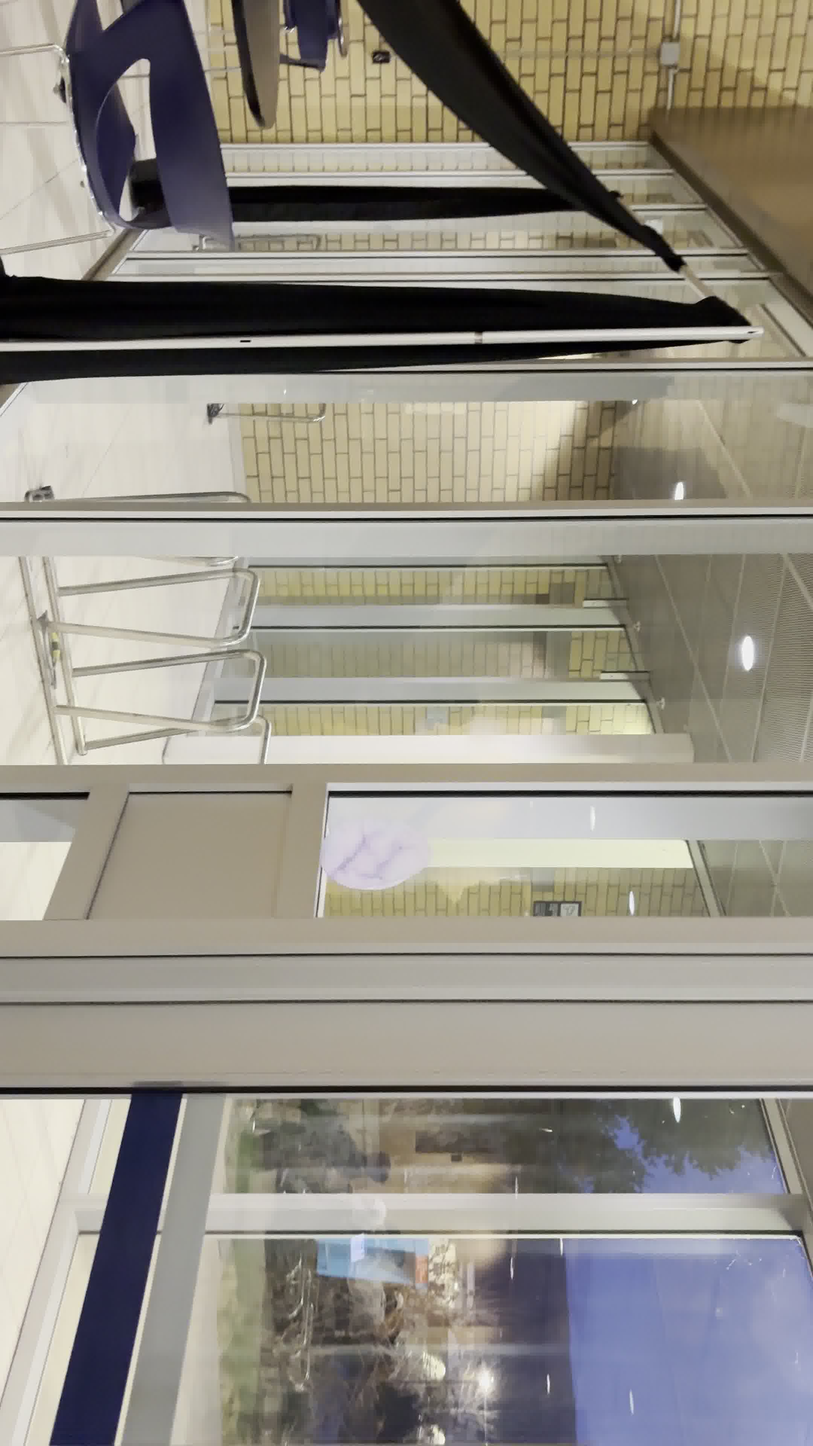Target: (318, 812, 431, 892)
